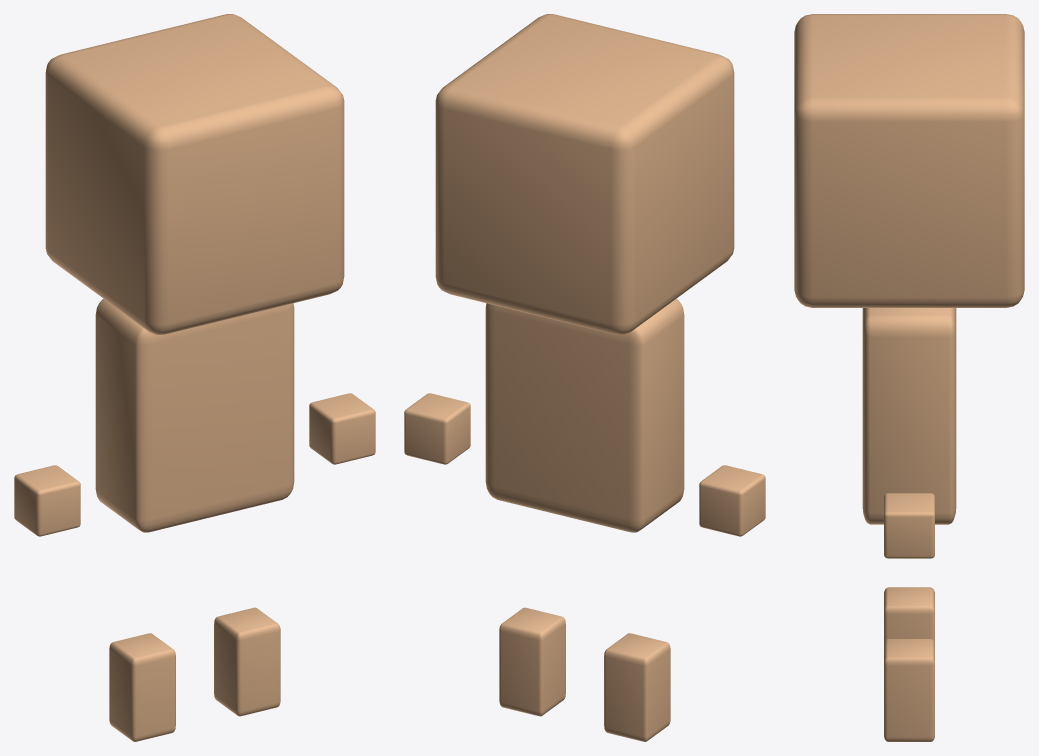
File: LevitateCharacter.fbx
The picture shows the model from 3 angles, left to right: view 1: azimuth 30°, elevation 25°; view 2: azimuth 150°, elevation 25°; view 3: azimuth 270°, elevation 25°; orthographic projection.
Visible parts, largest first — view 1: Character; view 2: Character; view 3: Character.
Boxes of the visible parts, <box> form: Character: <box>14,14,375,741</box>; Character: <box>404,14,765,741</box>; Character: <box>794,14,1024,741</box>.
Size of the model in its own units: 342 by 623 by 200.
